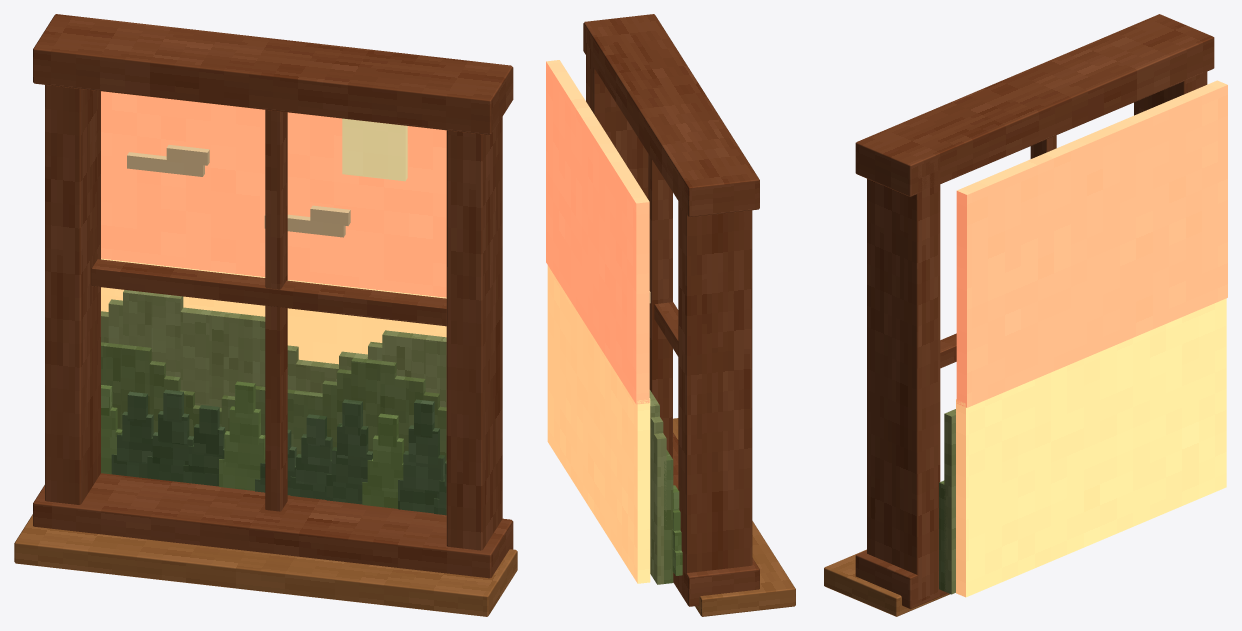
The model's file is Window.glb.
3 views of the same model, side by side, from view 1: azimuth 30°, elevation 25°; view 2: azimuth 150°, elevation 25°; view 3: azimuth 270°, elevation 25° (orthographic). The views are drawn at different scales.
Parts seen in each view (by area): view 1: Window.Casement and sill, Window.Outdoor light, Window.Distant landscape, Window.Crossbars; view 2: Window.Casement and sill, Window.Outdoor light, Window.Crossbars, Window.Distant landscape; view 3: Window.Outdoor light, Window.Casement and sill, Window.Distant landscape, Window.Crossbars.
Boxes of the visible parts, box(x1,y1,x2,y2) form: Window.Casement and sill: box(14, 14, 517, 616); Window.Outdoor light: box(101, 91, 446, 364); Window.Distant landscape: box(101, 290, 446, 515); Window.Crossbars: box(91, 110, 446, 511); Window.Casement and sill: box(583, 14, 795, 616); Window.Outdoor light: box(546, 60, 650, 583); Window.Crossbars: box(648, 154, 678, 458); Window.Distant landscape: box(649, 390, 682, 584); Window.Outdoor light: box(956, 80, 1227, 597); Window.Casement and sill: box(824, 14, 1214, 616); Window.Distant landscape: box(939, 409, 955, 594); Window.Crossbars: box(940, 135, 1056, 368).
Bounding box in the file's own units: 1.53 × 1.9 × 1.53.
Materials: 10 (10 with a texture image).
